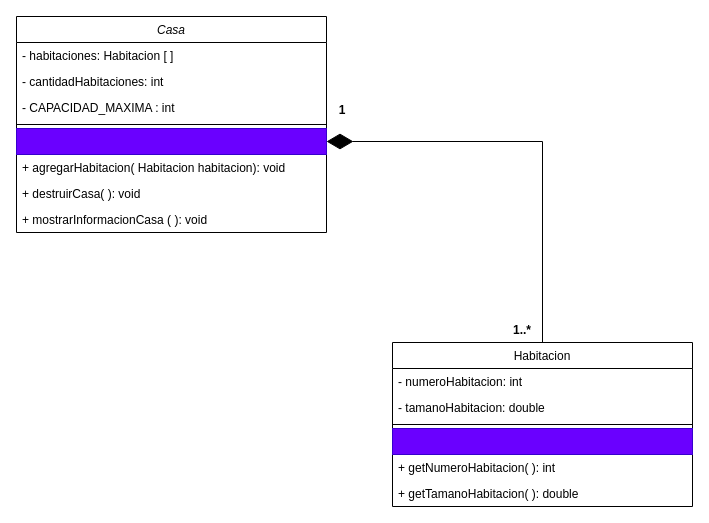
This 709x523 diagram has some shape labels left out. Each missing label, with the centre of its shape:
+ Casa (): [171,141]
+ Habitacion (numeroHabitacion, tamanoHabitacion): [542,441]
